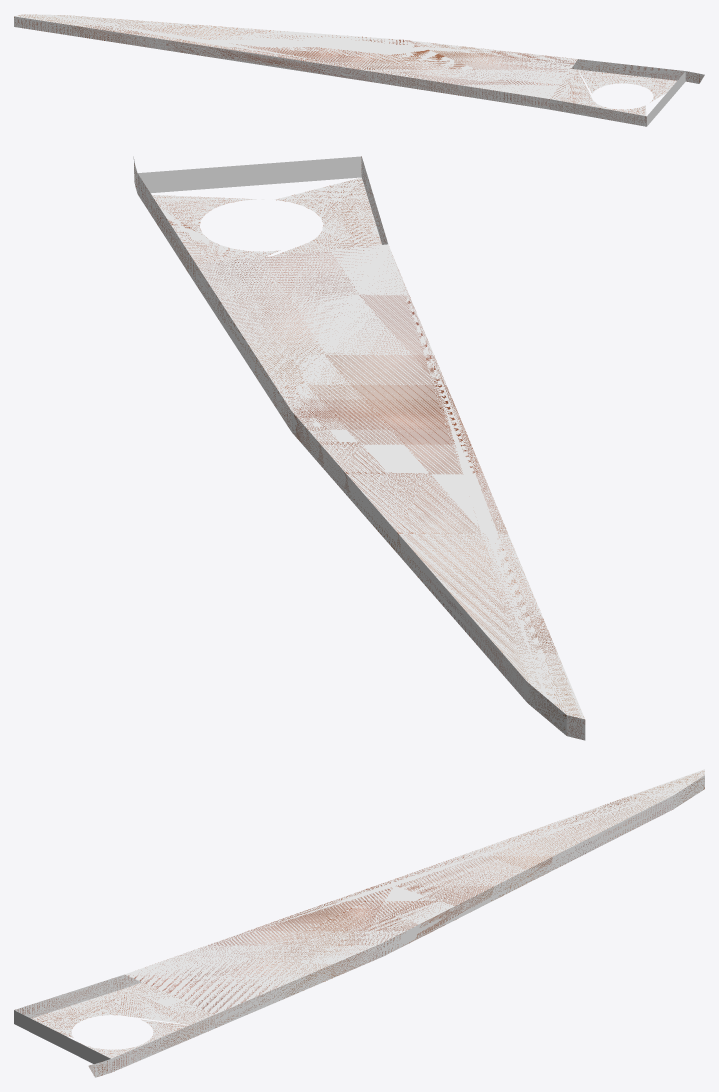
3 views of the same model, one above another, from view 1: azimuth 30°, elevation 25°; view 2: azimuth 150°, elevation 25°; view 3: azimuth 270°, elevation 25° (orthographic). The views are drawn at different scales.
Bounding box in the file's own units: 0.7421 × 0.0163 × 0.7307.
